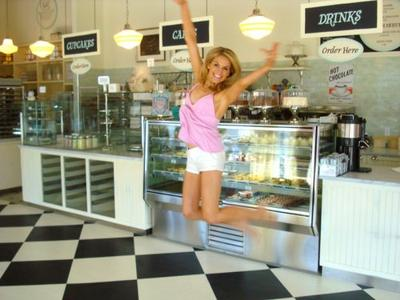person: (174, 2, 280, 238)
